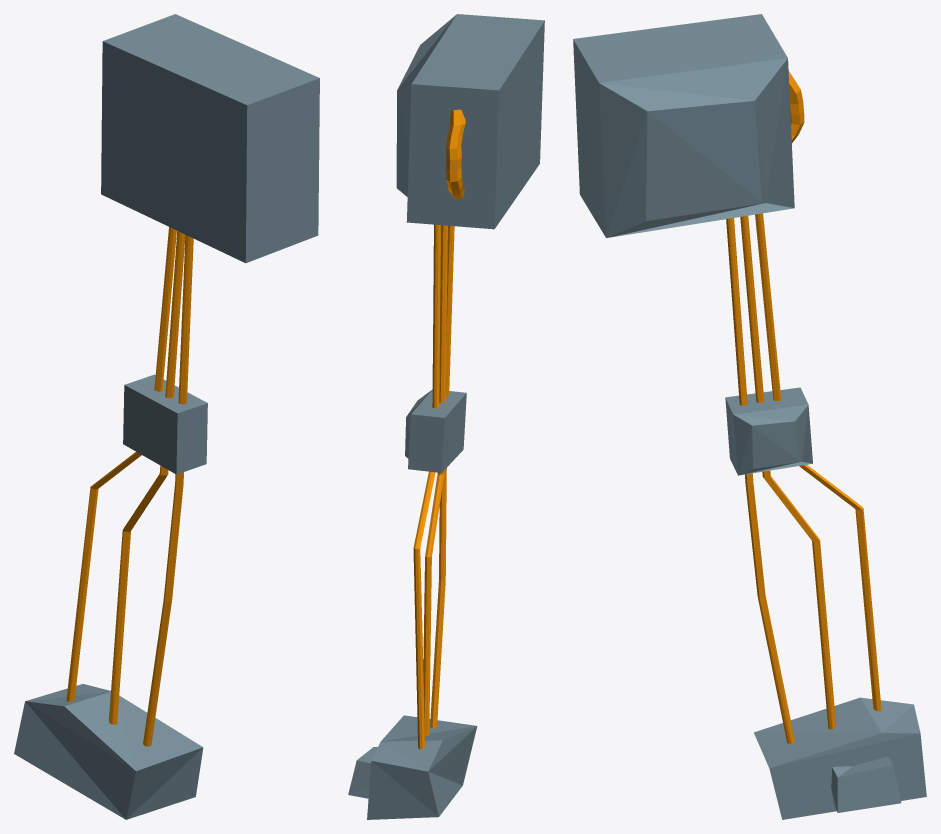
3 views of the same model, side by side, from view 1: azimuth 30°, elevation 25°; view 2: azimuth 150°, elevation 25°; view 3: azimuth 270°, elevation 25° (orthographic). The views are drawn at different scales.
Visible parts, largest first — view 1: mesh_1656735787, mesh_255641215, mesh_894806288, group_64151041, group_1637110852, group_414987723; view 2: mesh_1656735787, mesh_255641215, mesh_894806288, group_414987723, group_1637110852, group_64151041, group_440507392, mesh_497901445; view 3: mesh_1656735787, mesh_255641215, mesh_894806288, group_64151041, group_1637110852, group_414987723, mesh_497901445, group_440507392.
Boxes of the visible parts, x1=… form: mesh_1656735787: x1=101, y1=14, x2=319, y2=263; mesh_255641215: x1=14, y1=684, x2=203, y2=819; mesh_894806288: x1=123, y1=374, x2=207, y2=474; group_64151041: x1=143, y1=234, x2=193, y2=746; group_1637110852: x1=109, y1=231, x2=185, y2=724; group_414987723: x1=66, y1=227, x2=176, y2=701; mesh_1656735787: x1=396, y1=14, x2=544, y2=229; mesh_255641215: x1=367, y1=715, x2=477, y2=819; mesh_894806288: x1=405, y1=389, x2=466, y2=472; group_414987723: x1=413, y1=224, x2=440, y2=749; group_1637110852: x1=423, y1=225, x2=447, y2=736; group_64151041: x1=430, y1=225, x2=454, y2=728; group_440507392: x1=446, y1=109, x2=465, y2=199; mesh_497901445: x1=348, y1=747, x2=377, y2=798; mesh_1656735787: x1=573, y1=14, x2=794, y2=237; mesh_255641215: x1=754, y1=697, x2=926, y2=819; mesh_894806288: x1=725, y1=387, x2=812, y2=475; group_64151041: x1=726, y1=218, x2=794, y2=743; group_1637110852: x1=740, y1=215, x2=835, y2=729; group_414987723: x1=755, y1=213, x2=881, y2=711; mesh_497901445: x1=831, y1=756, x2=901, y2=812; group_440507392: x1=788, y1=71, x2=804, y2=142.
Size of the model in its own units: 3.91 by 18.57 by 7.82.
